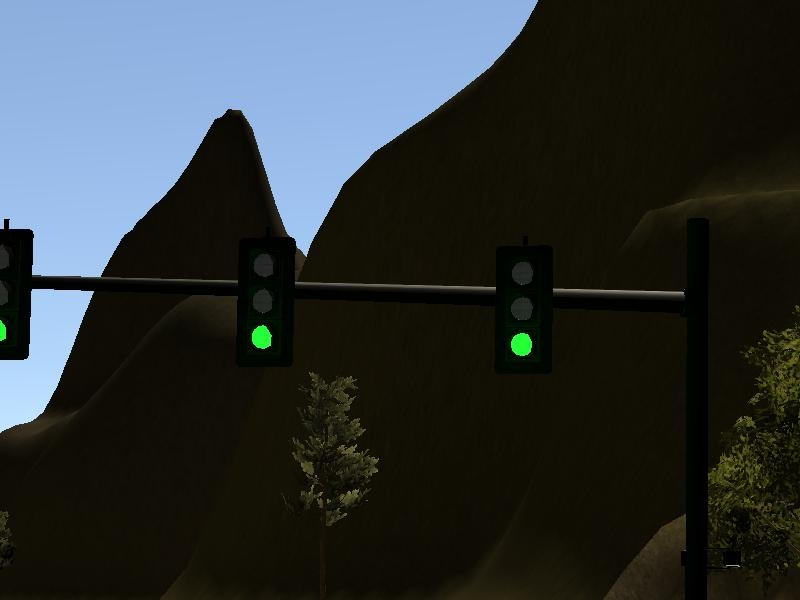GREEN: (493, 244, 552, 376), (235, 235, 293, 367)
